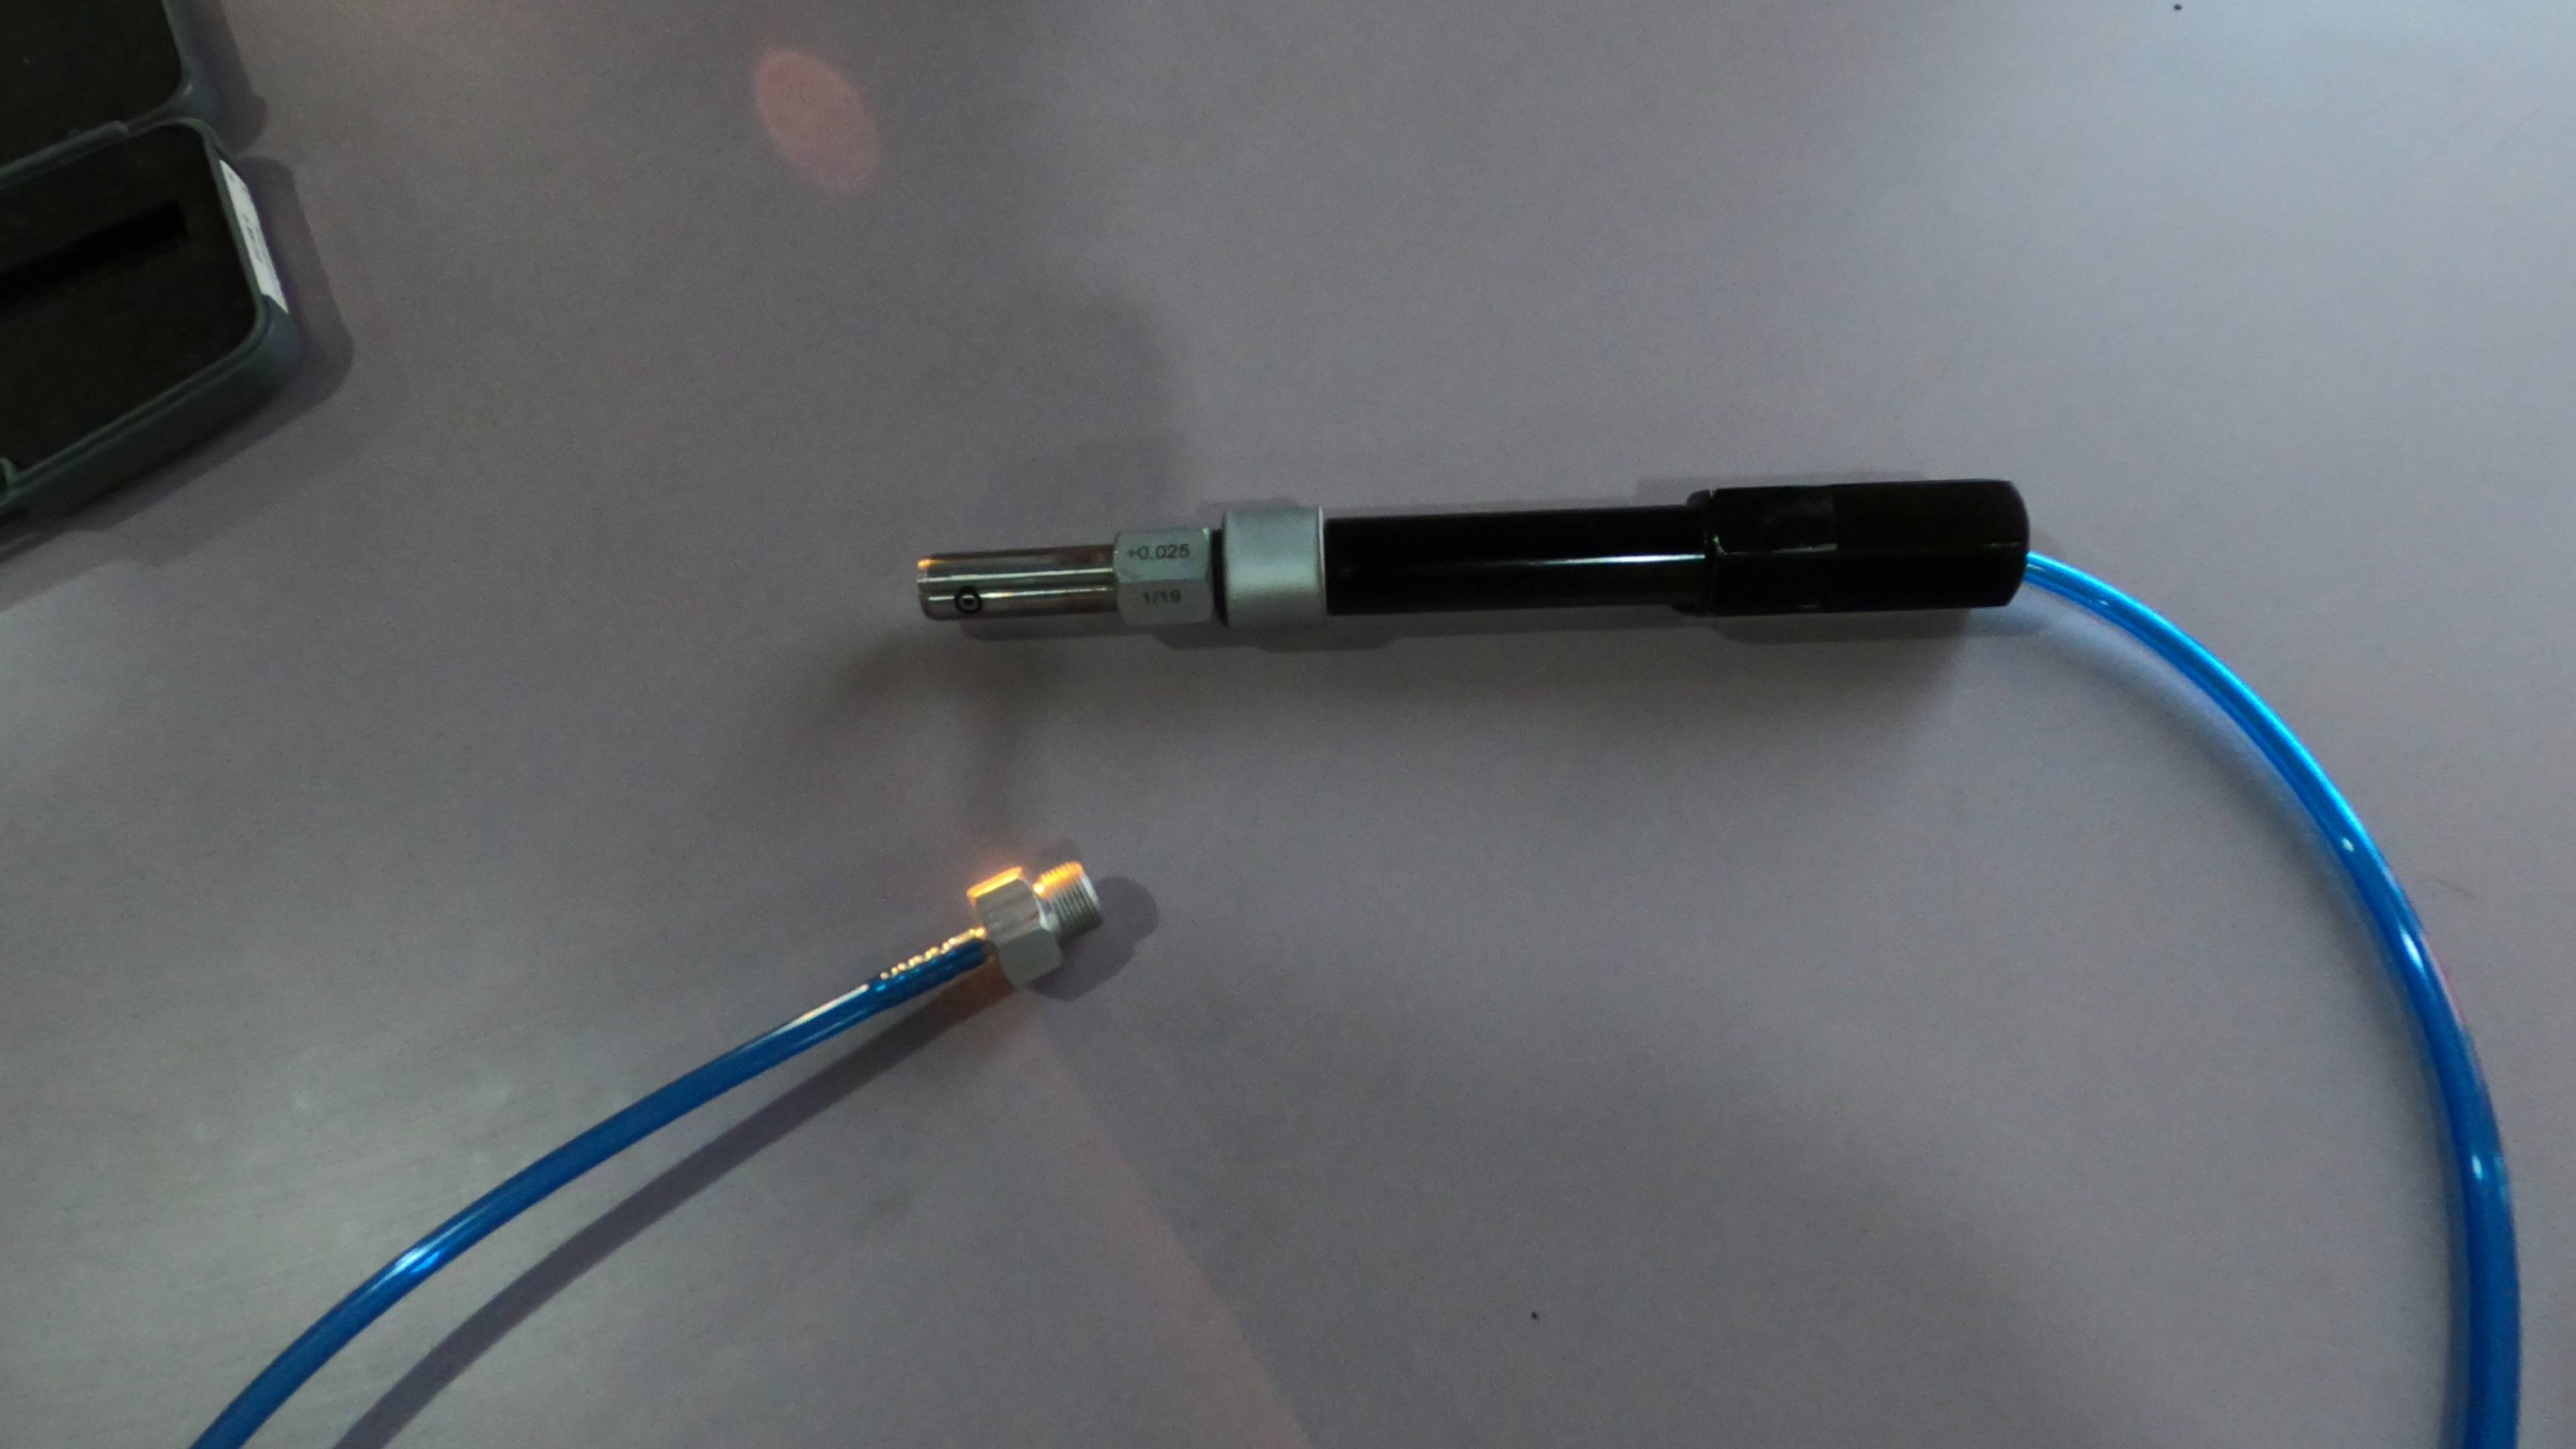air_gauge: (901, 474, 2042, 642)
